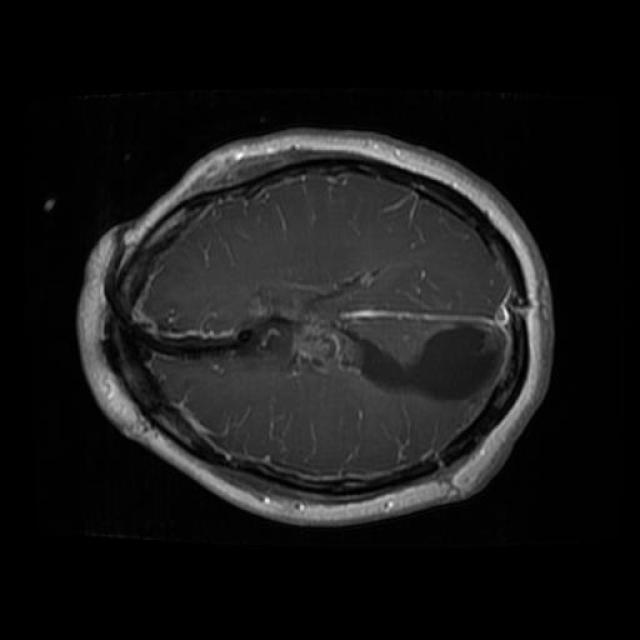Glioma: (361, 323, 502, 401)
